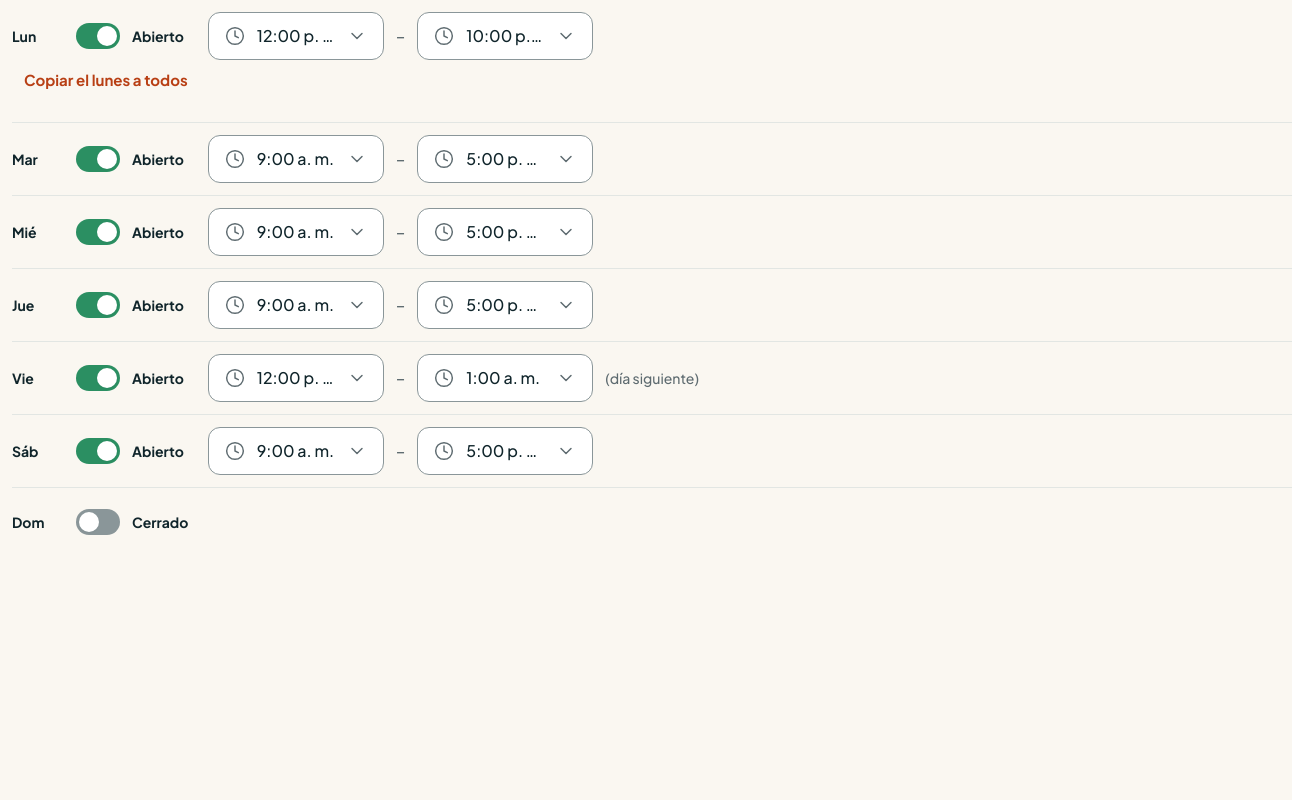
Scenario: HoursEditor › "Copiar el lunes a todos" copies Monday to every day
Click the button "Copiar el lunes a todos".
click(106, 90)  # box [12, 70, 200, 110]
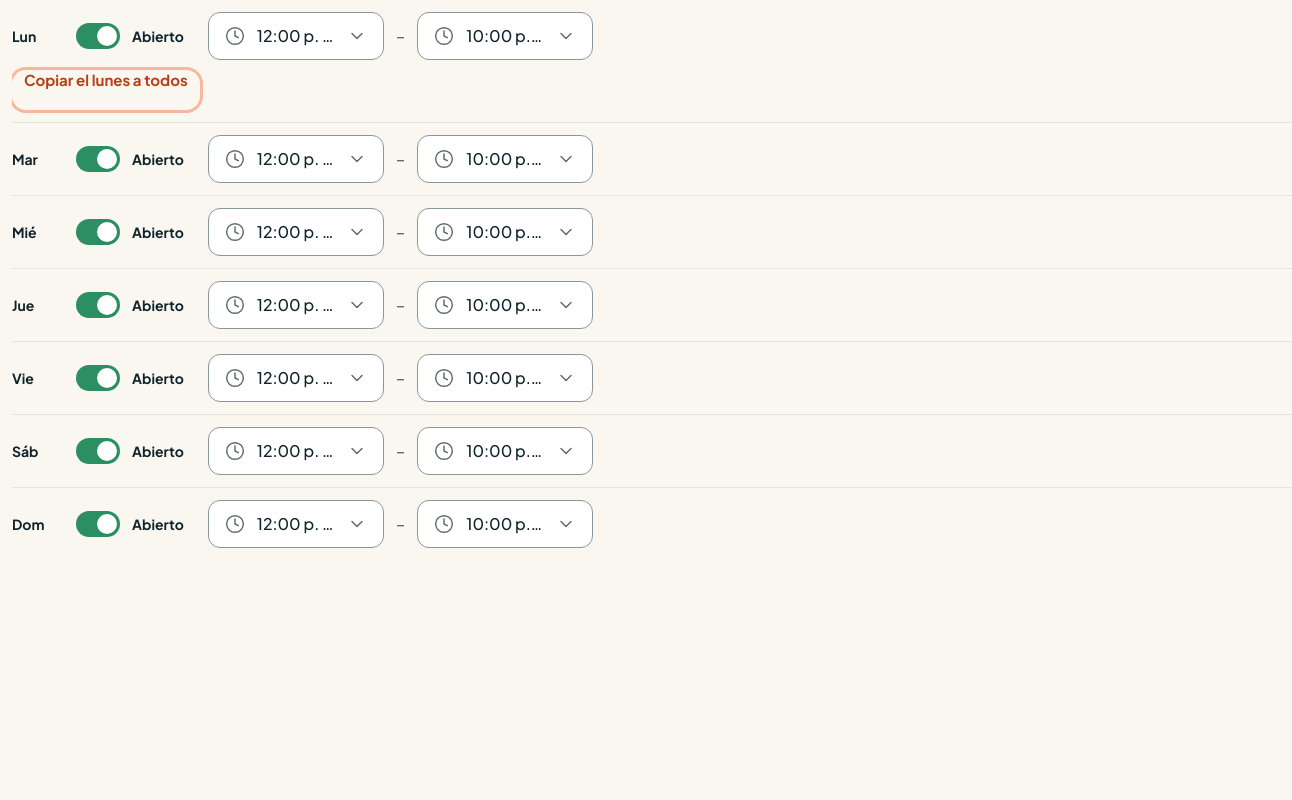
Now the text "12:00 p. m." is shown 7 times
Now the text "10:00 p. m." is shown 7 times
